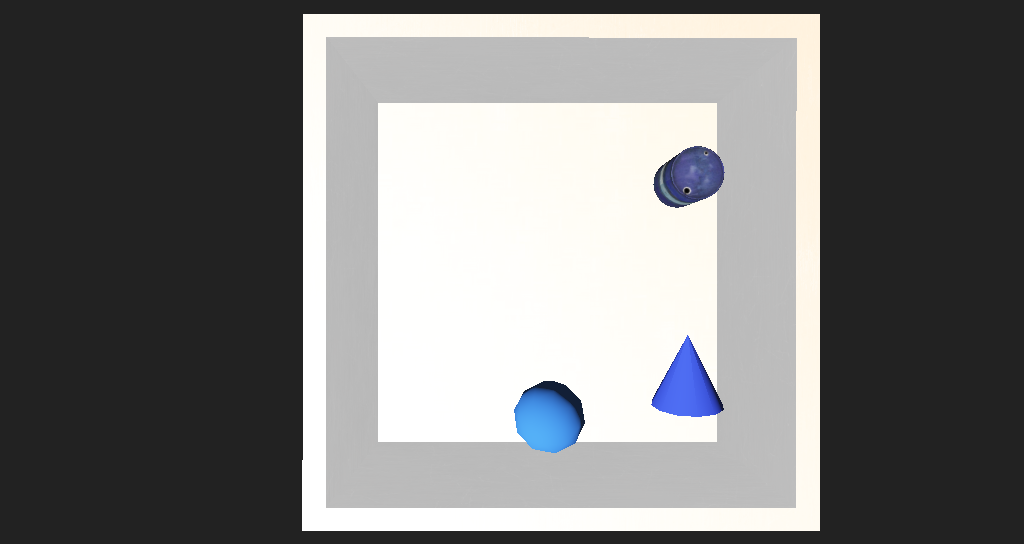cone: (603, 191, 664, 229)
cylinder: (596, 301, 670, 358)
sphere: (472, 334, 539, 382)
